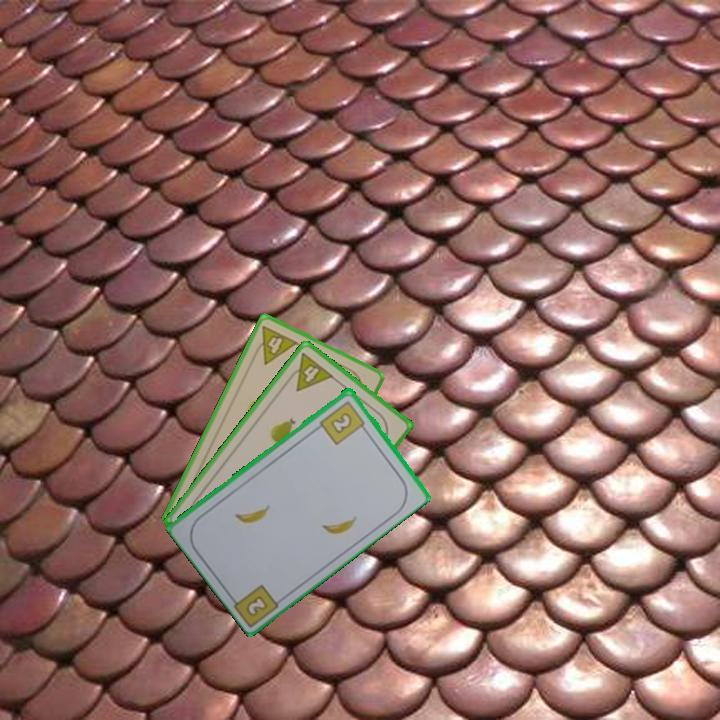2b: (316, 397, 370, 447), (244, 594, 268, 617)
4p: (282, 349, 336, 394), (248, 322, 301, 367)
